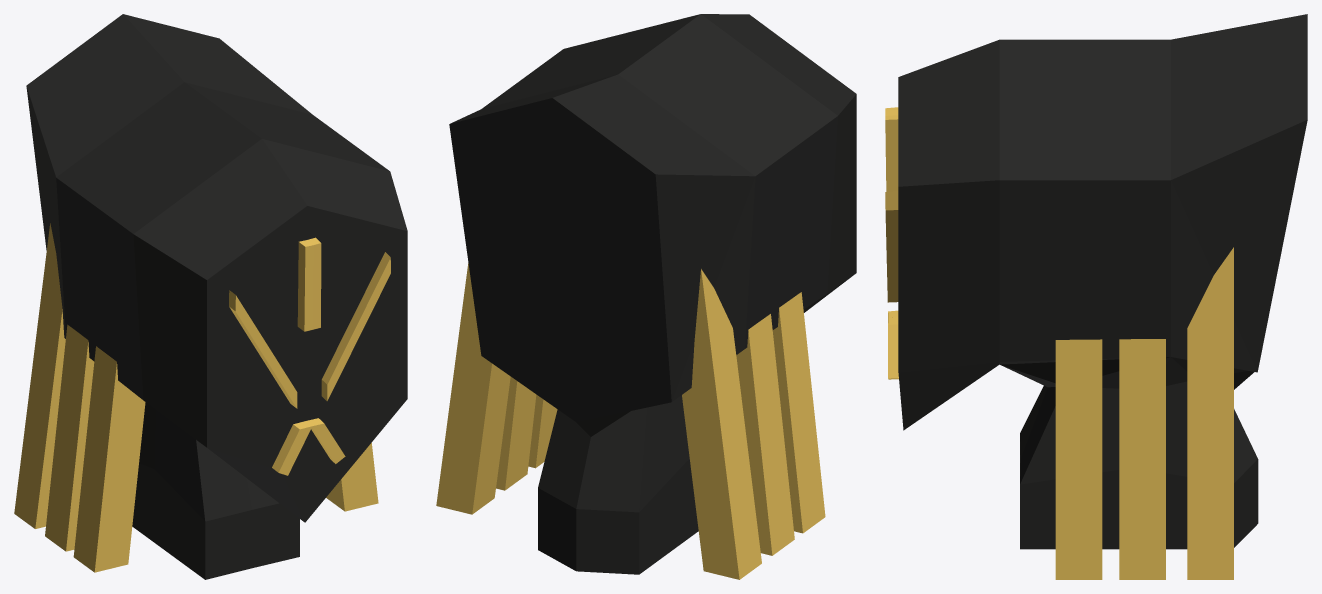
The model's file is head1.fbx.
3 renders of one model, left to right at view 1: azimuth 30°, elevation 25°; view 2: azimuth 150°, elevation 25°; view 3: azimuth 270°, elevation 25°, orthographic. The views are drawn at different scales.
Parts seen in each view (by area): view 1: head2.001; view 2: head2.001; view 3: head2.001.
Part boxes in pixels (x1=…): head2.001: x1=14, y1=14, x2=407, y2=579; head2.001: x1=436, y1=14, x2=856, y2=579; head2.001: x1=885, y1=14, x2=1307, y2=579.
Size of the model in its own units: 0.077 by 0.119 by 0.0894.
